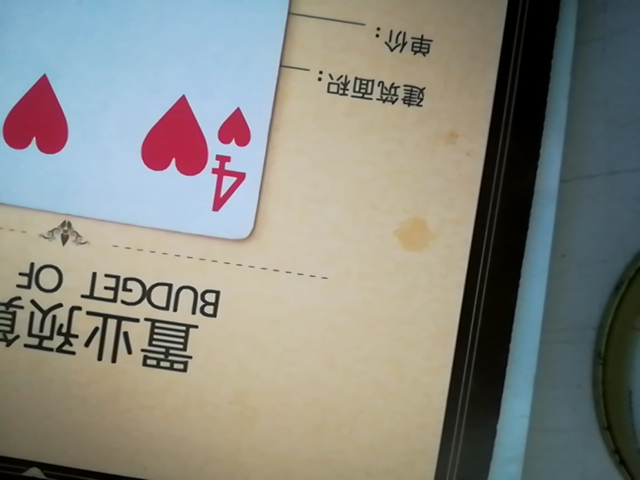hx 4: (5, 0, 316, 238)
